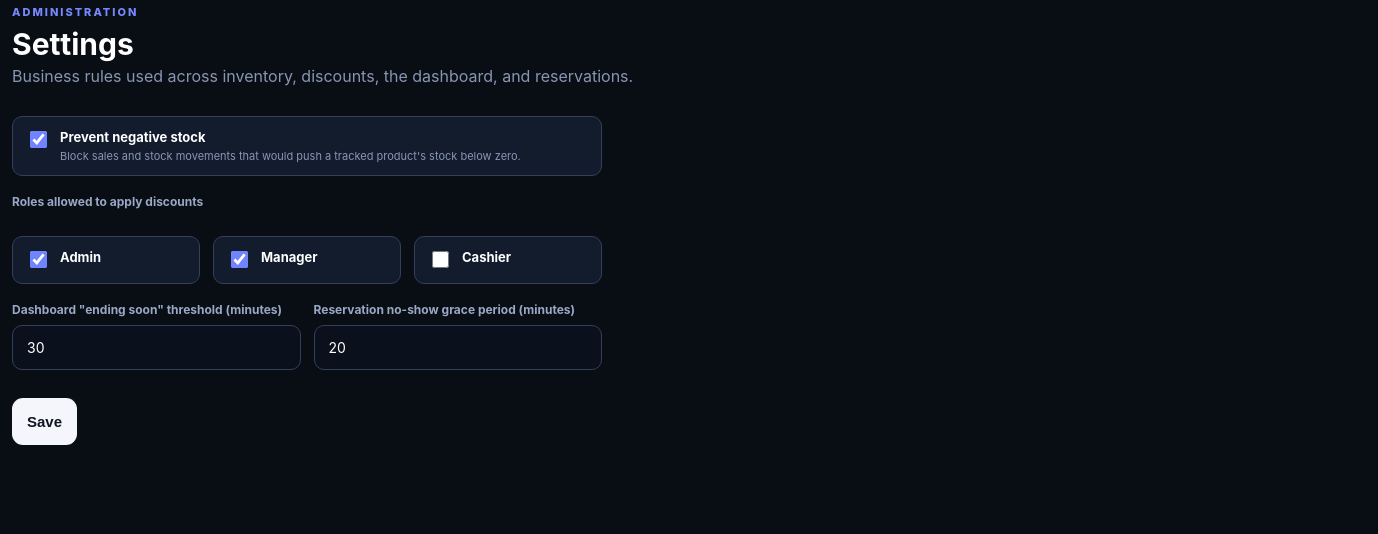
SettingsPage › shows a save error from the server
Expected: the checkbox labelled "Prevent negative stock" is shown, top-left (30, 131), bottom-right (47, 148)
Click the button "Save": (44, 422) top-left (12, 398), bottom-right (77, 445)
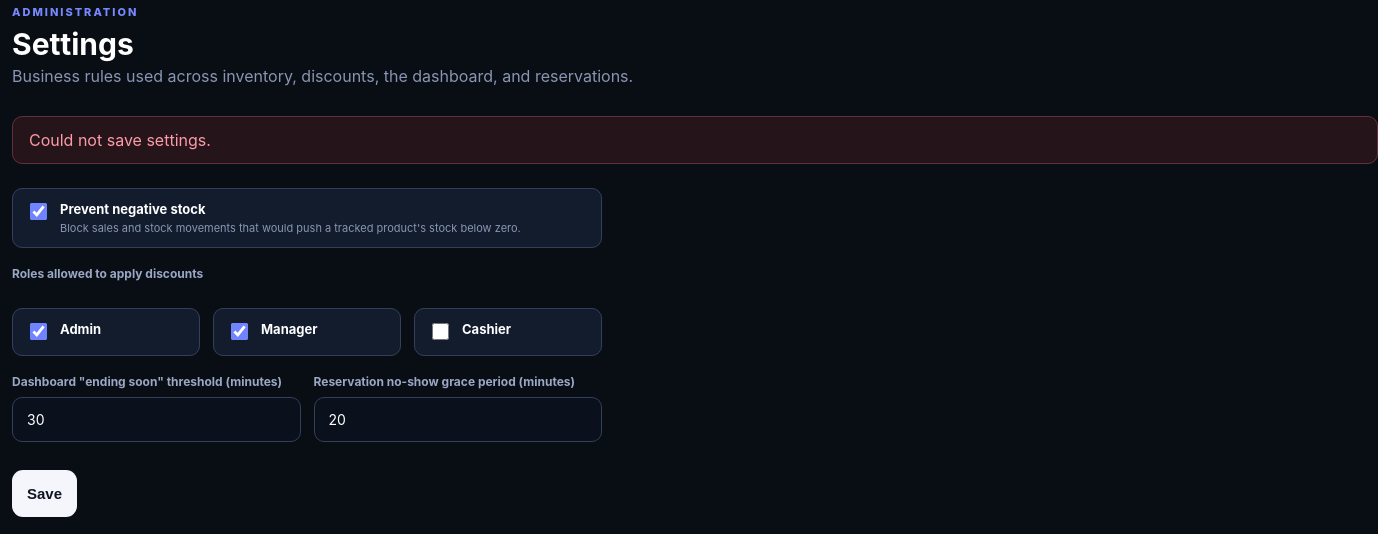
Expected: the text "Could not save settings." is shown, top-left (12, 116), bottom-right (1377, 164)
